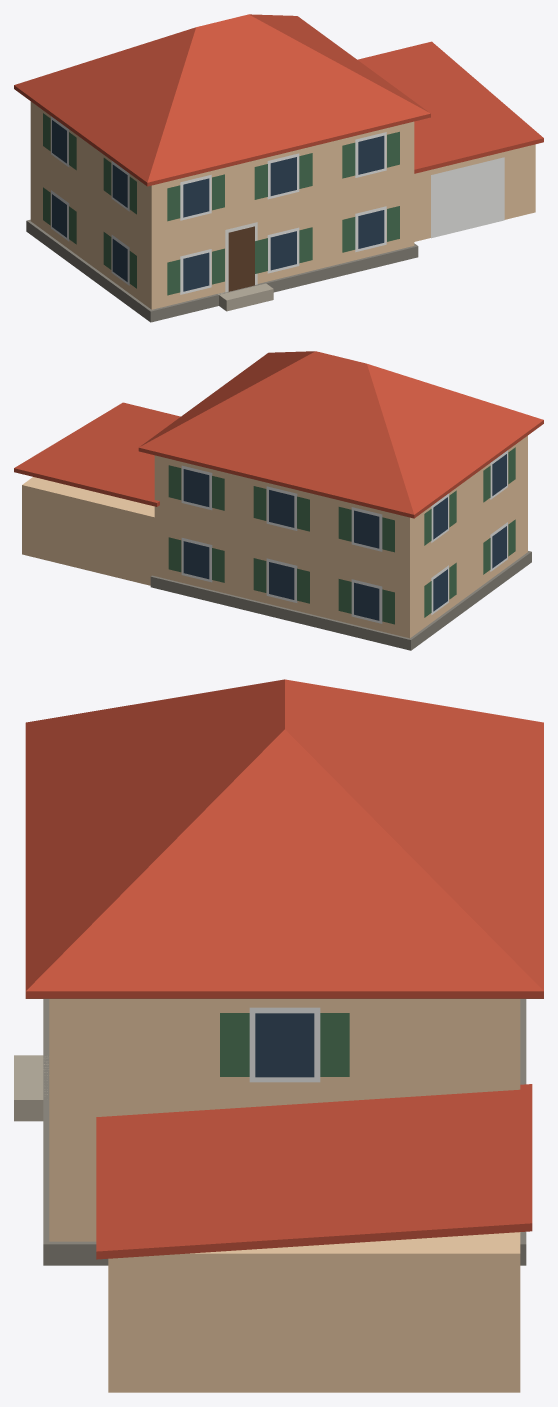
Rendered from pavillon.glb.
3 views of the same model, one above another, from view 1: azimuth 30°, elevation 25°; view 2: azimuth 150°, elevation 25°; view 3: azimuth 270°, elevation 25° (orthographic). The views are drawn at different scales.
Parts seen in each view (by area): view 1: pavillon; view 2: pavillon; view 3: pavillon.
Part boxes in pixels (<box>): pavillon: <box>14,14,543,322</box>; pavillon: <box>14,351,543,650</box>; pavillon: <box>14,679,543,1392</box>.
Bounding box in the file's own units: 15.8 × 8.14 × 9.
1 material, 1 textured.
